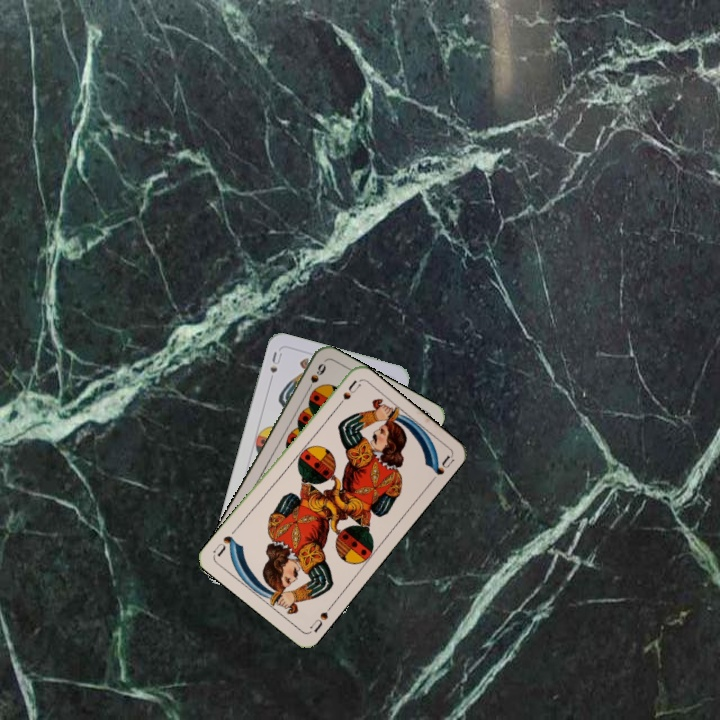S9: (302, 359, 329, 396)
SU: (331, 376, 363, 413), (306, 600, 336, 635), (266, 348, 285, 375)
